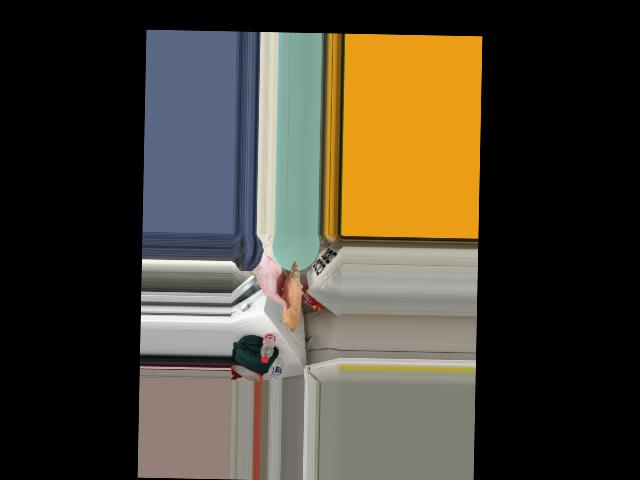sweet_potato: (283, 268, 301, 329)
